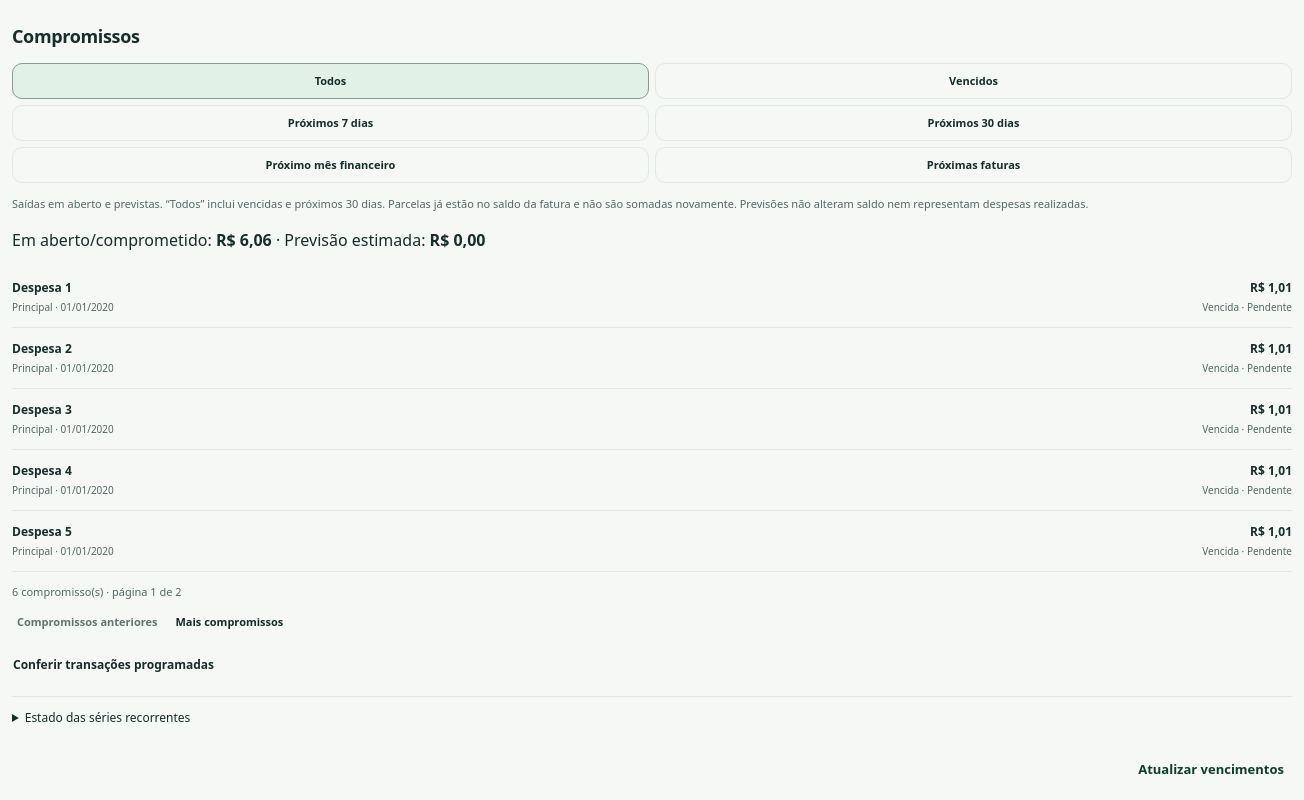
Test: mostra despesas reais e pagina sem repetir geração
Check: the text "Despesa 1" is shown, box [12,278,72,296]
Check: the text "Despesa 6" is not shown
Step 1. Click the button "Mais compromissos" → (229, 622), box [170,606,288,636]
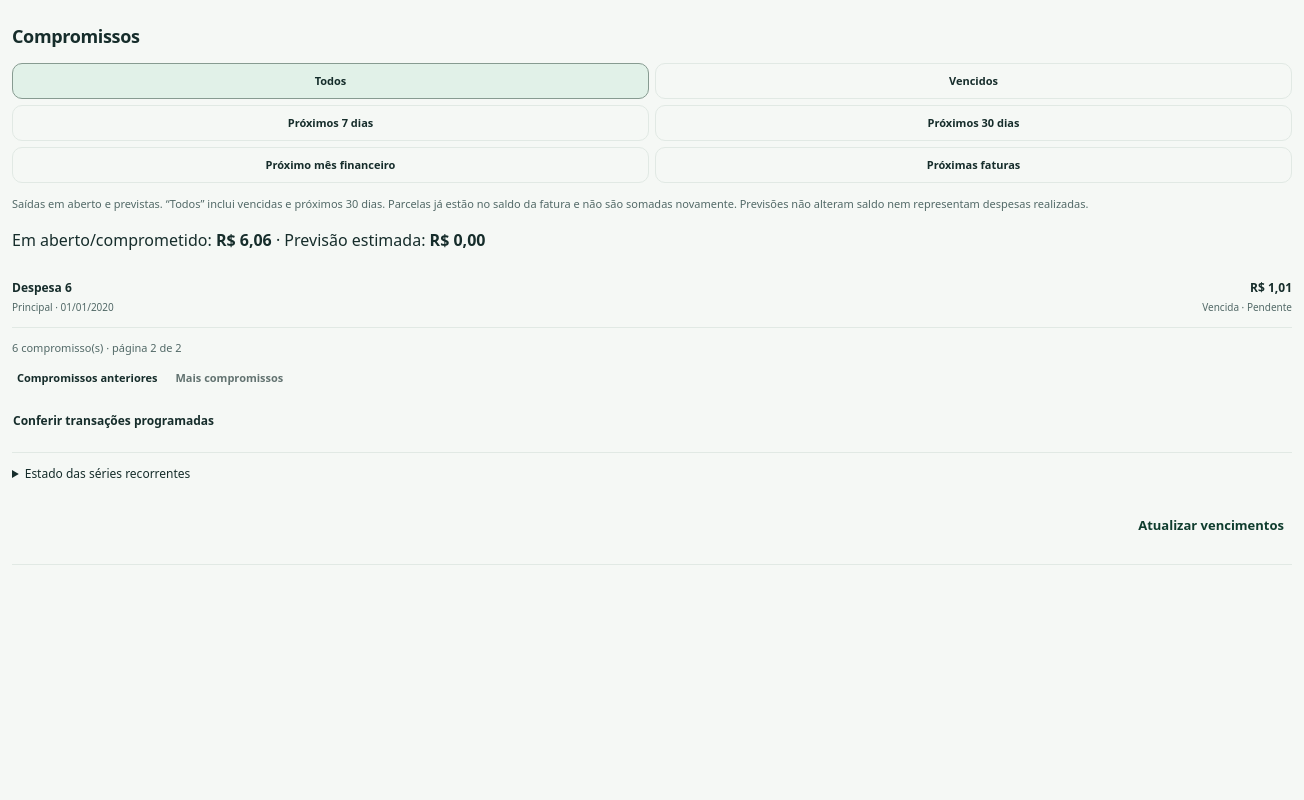
Check: the text "Despesa 6" is shown, box [12,278,72,296]
Check: the text "Despesa 1" is gone
